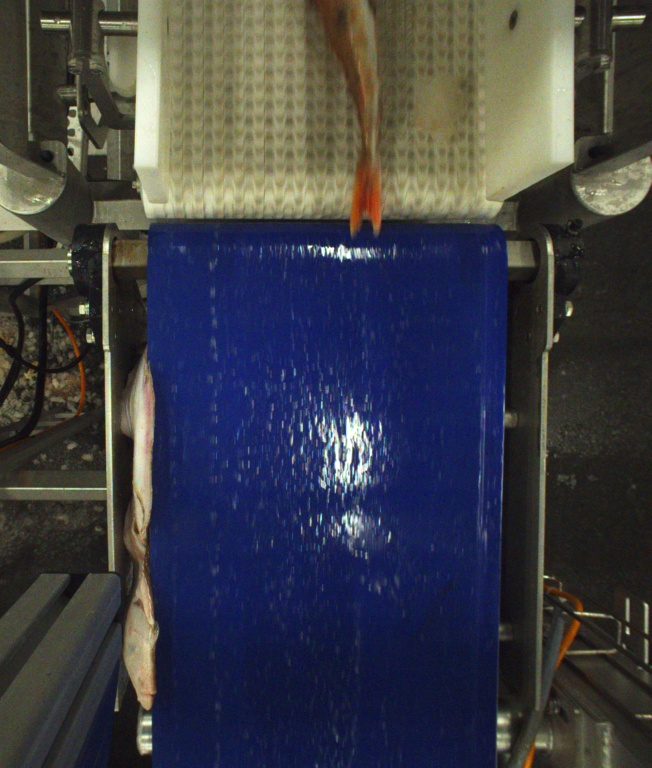GUU: (310, 0, 382, 235)
